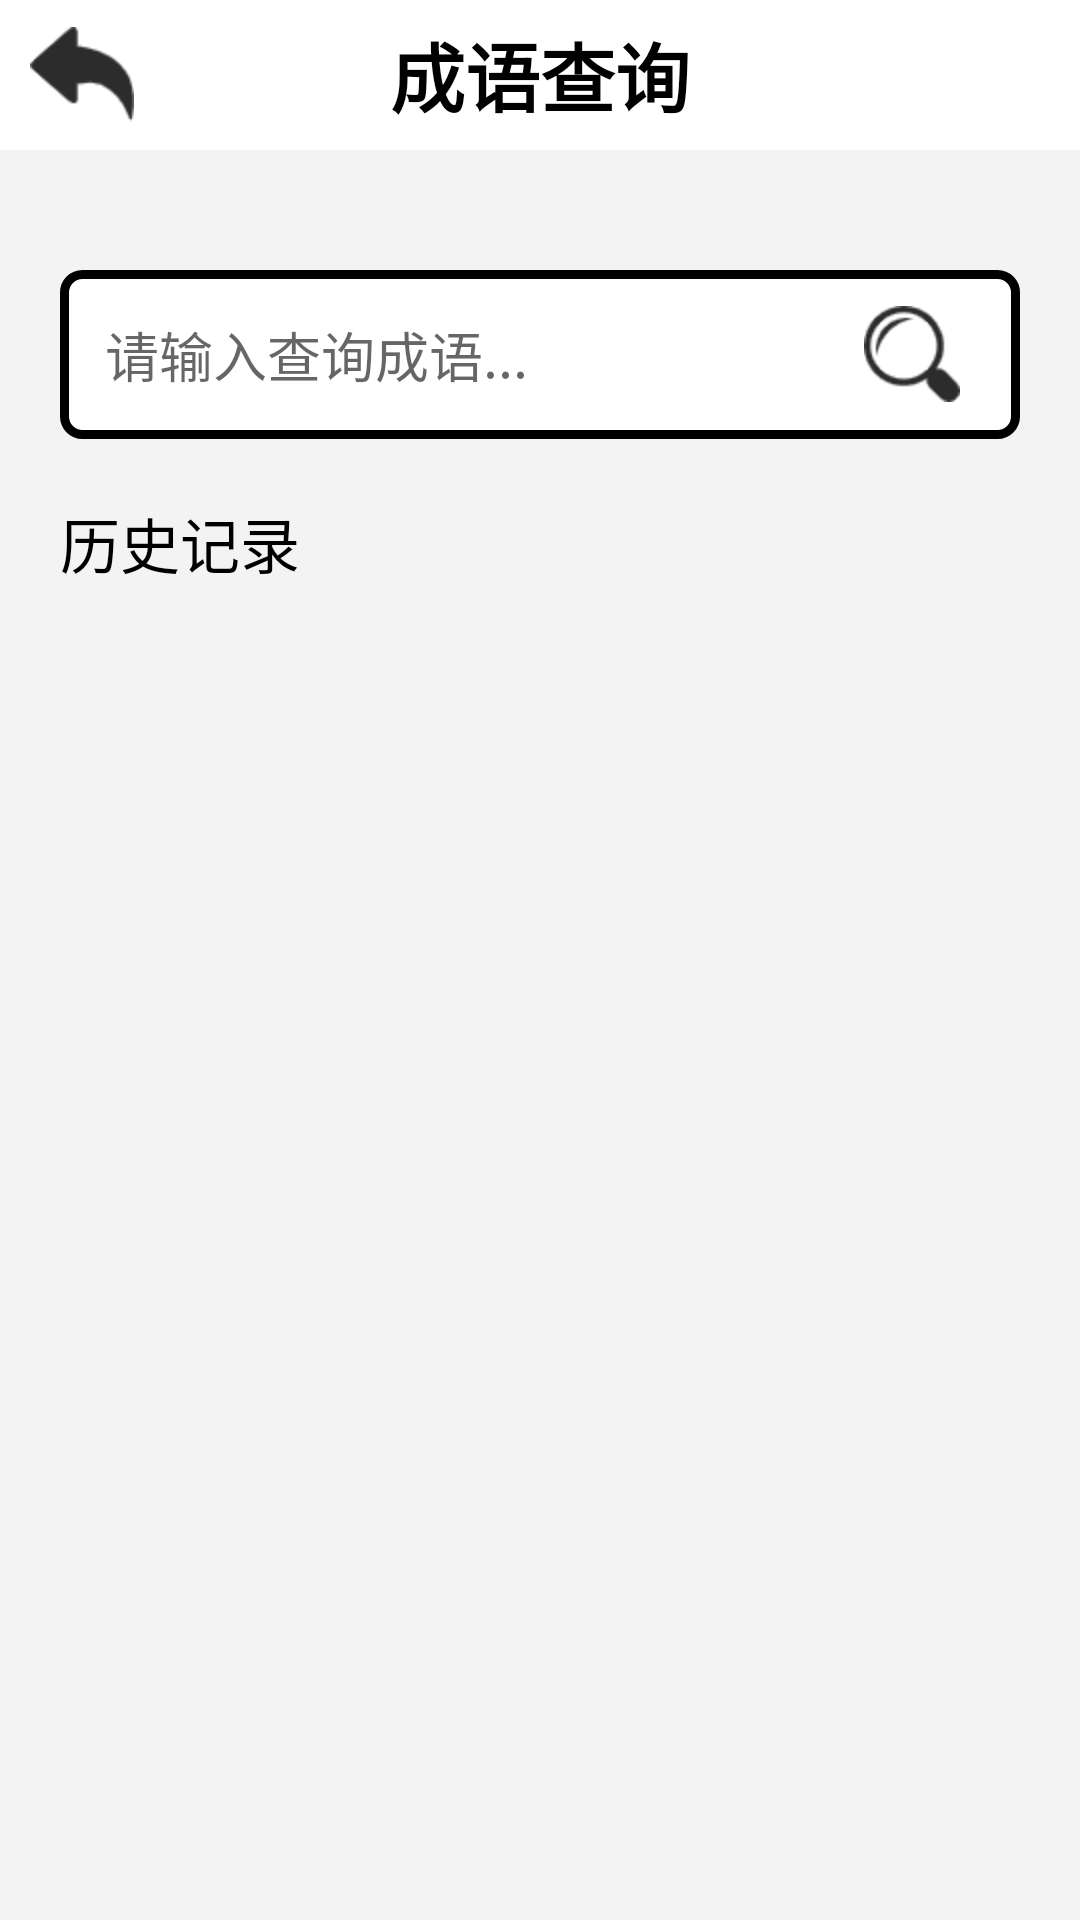

Icon click points for this 1080px×1920px phone screenshot, format [x,y]:
back: [82,74]
search: [912,354]
